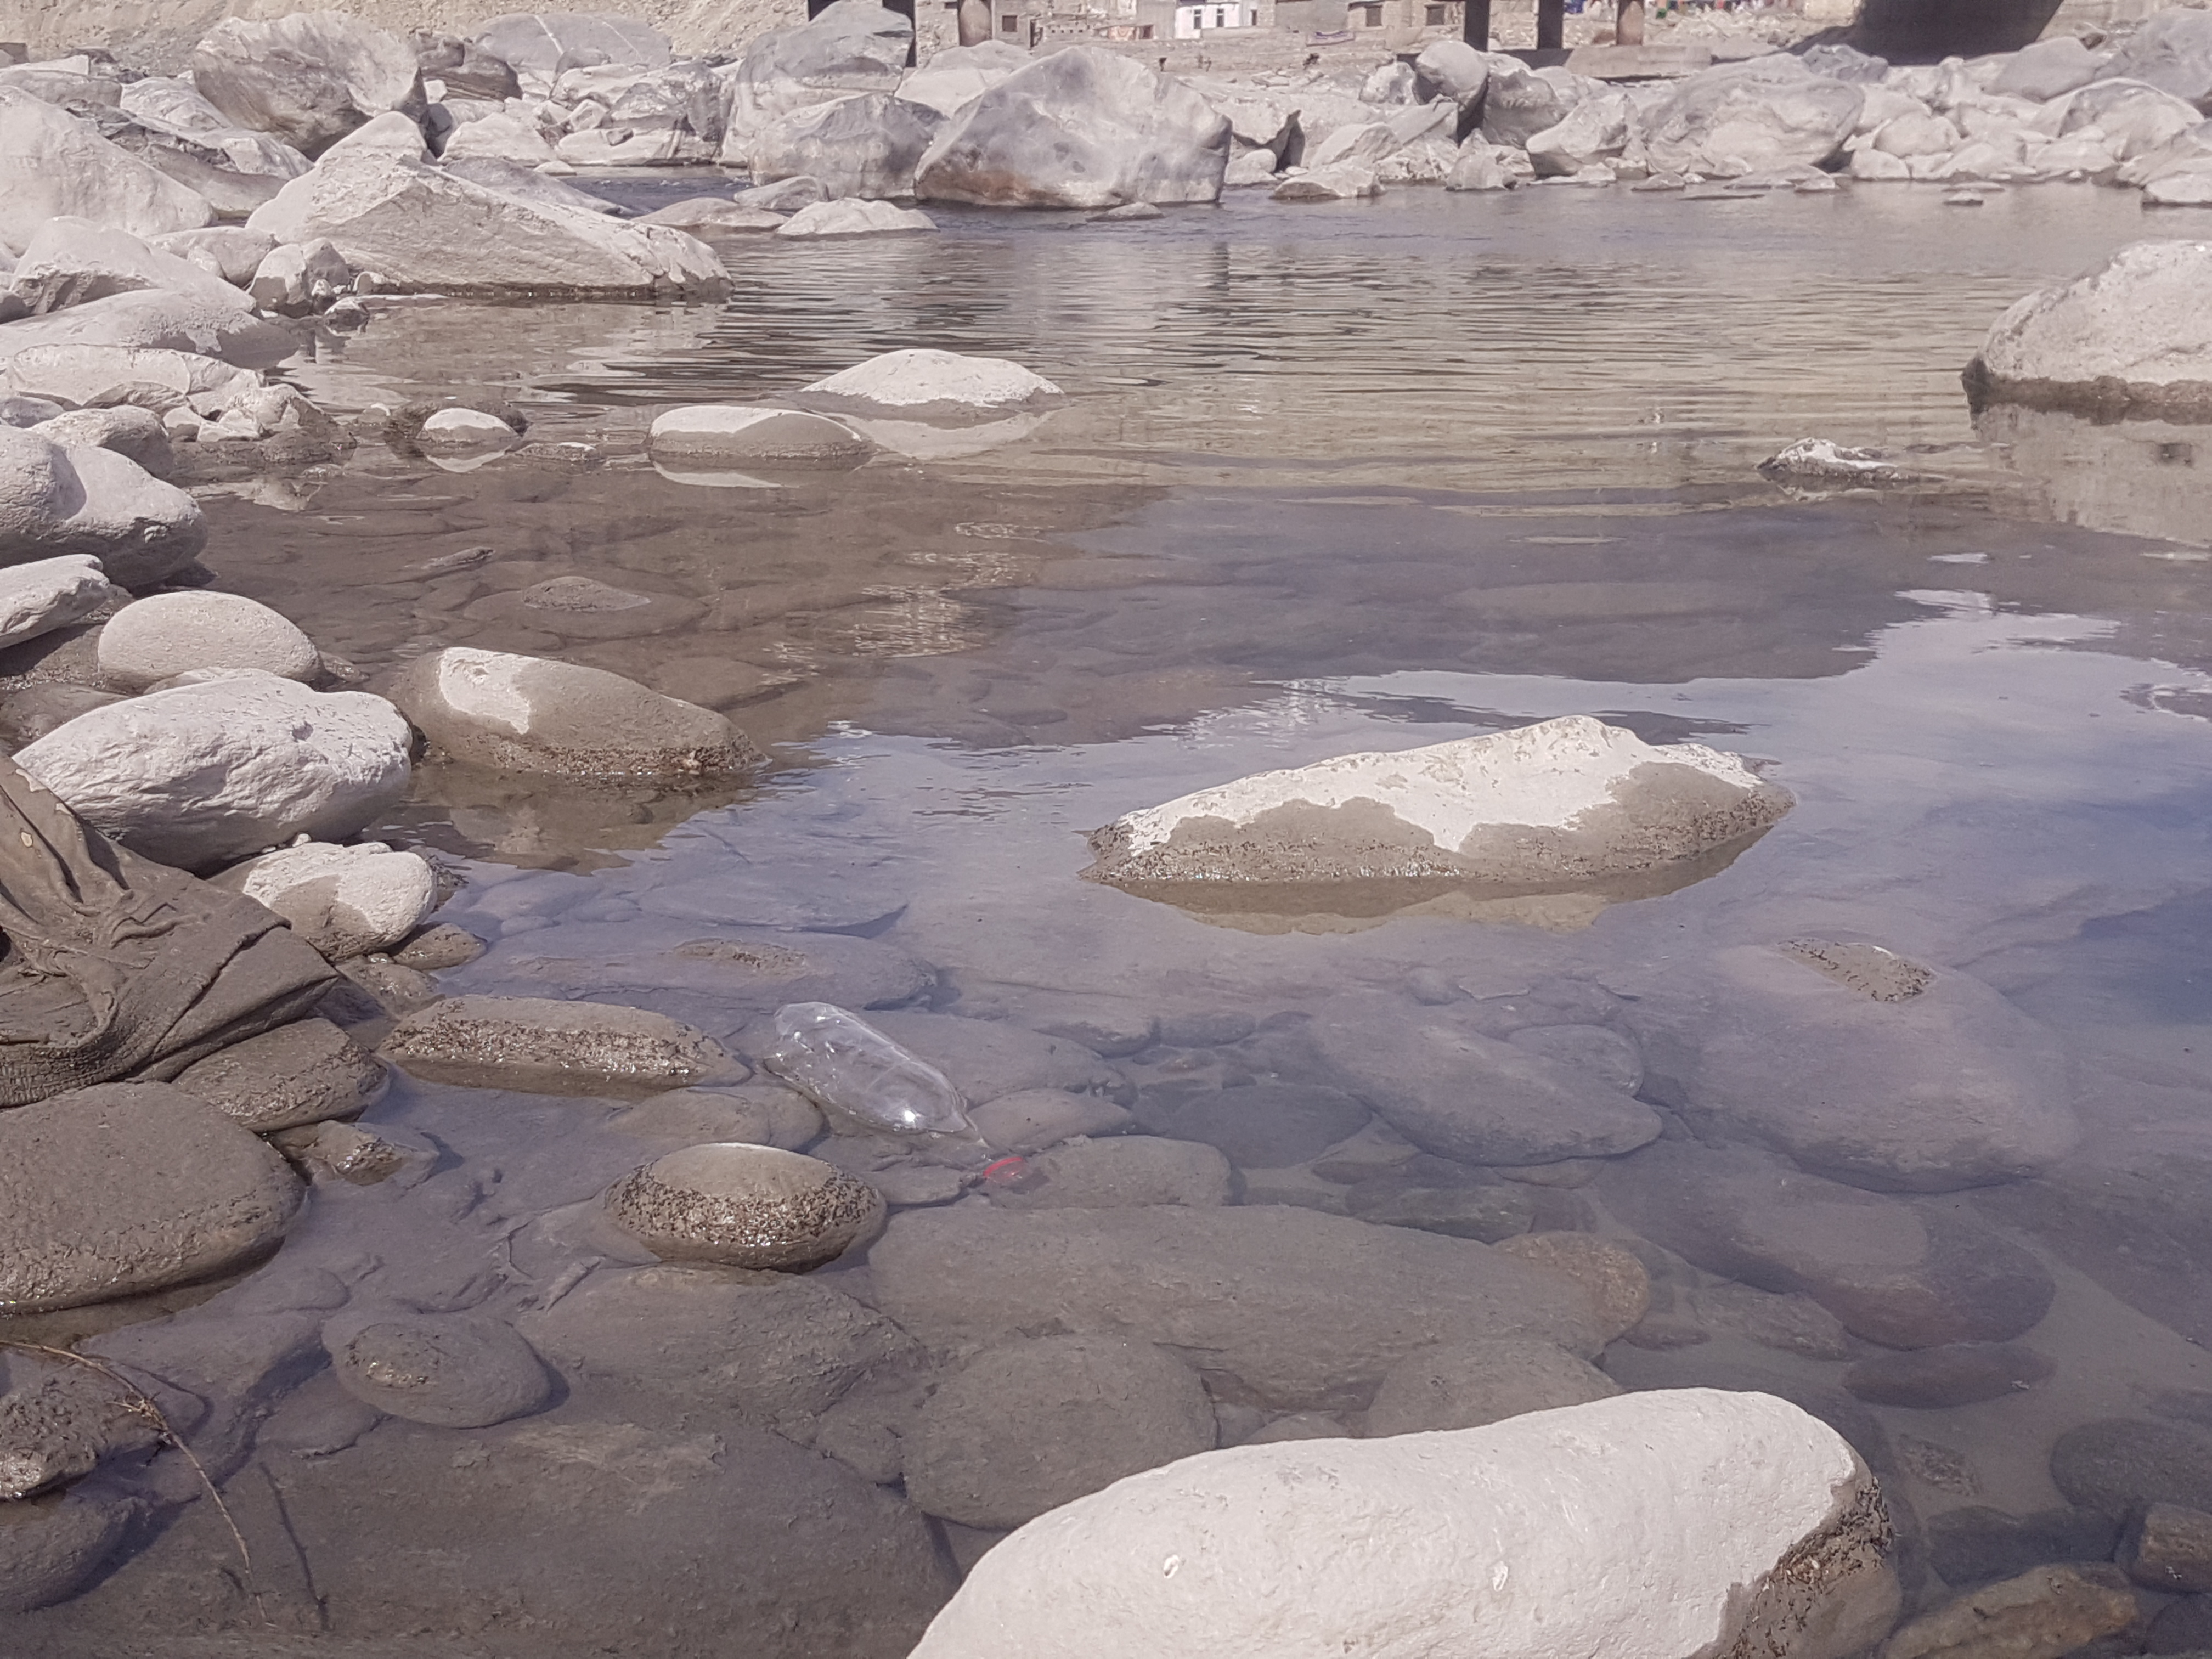Plastic Bottle: (765, 1000, 1031, 1192)
